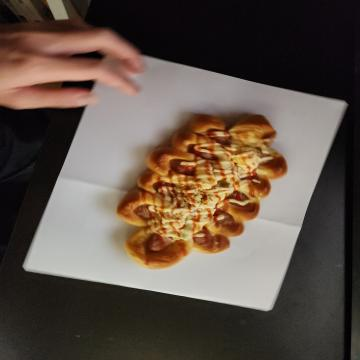pizza_bread: (112, 72, 268, 244)
